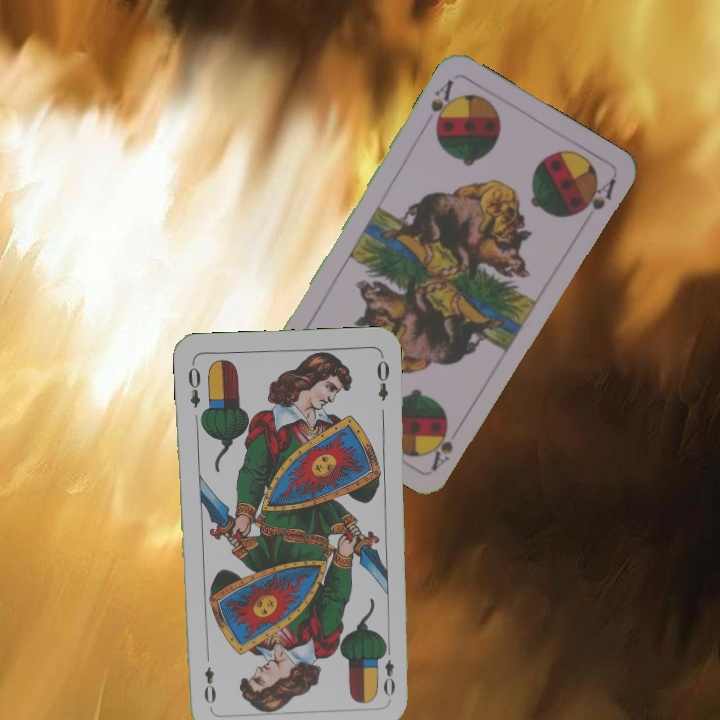EO: (377, 641, 398, 699), (184, 358, 203, 410)
SA: (426, 75, 458, 133), (426, 421, 456, 473)
